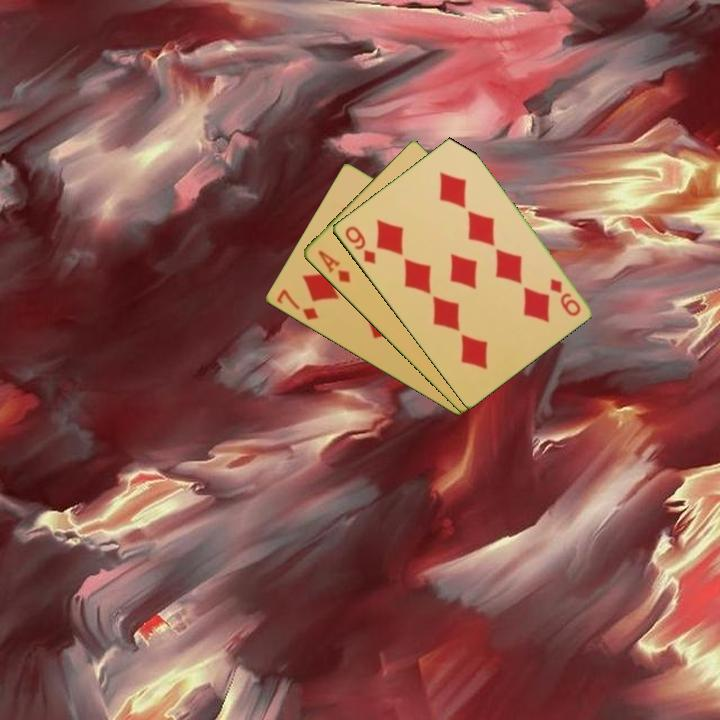7d: (272, 286, 321, 323)
9d: (341, 222, 378, 267), (546, 275, 583, 319)
Ad: (314, 246, 353, 286)
